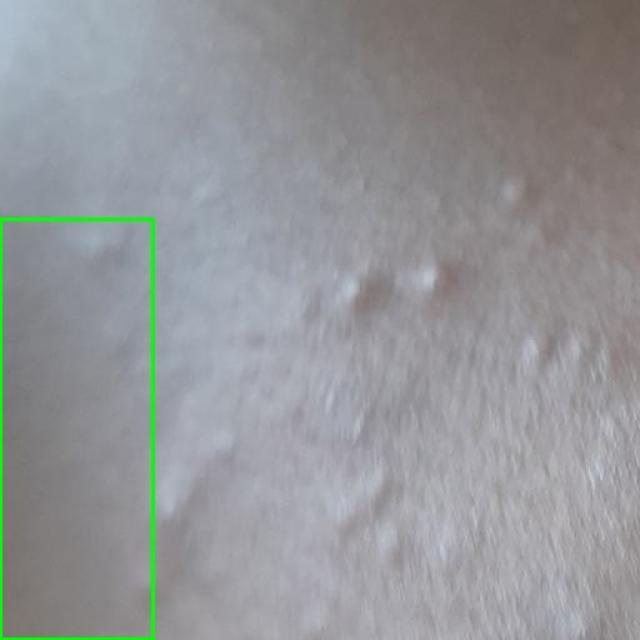Seborrheic Dermatitis: (0, 219, 152, 639)
